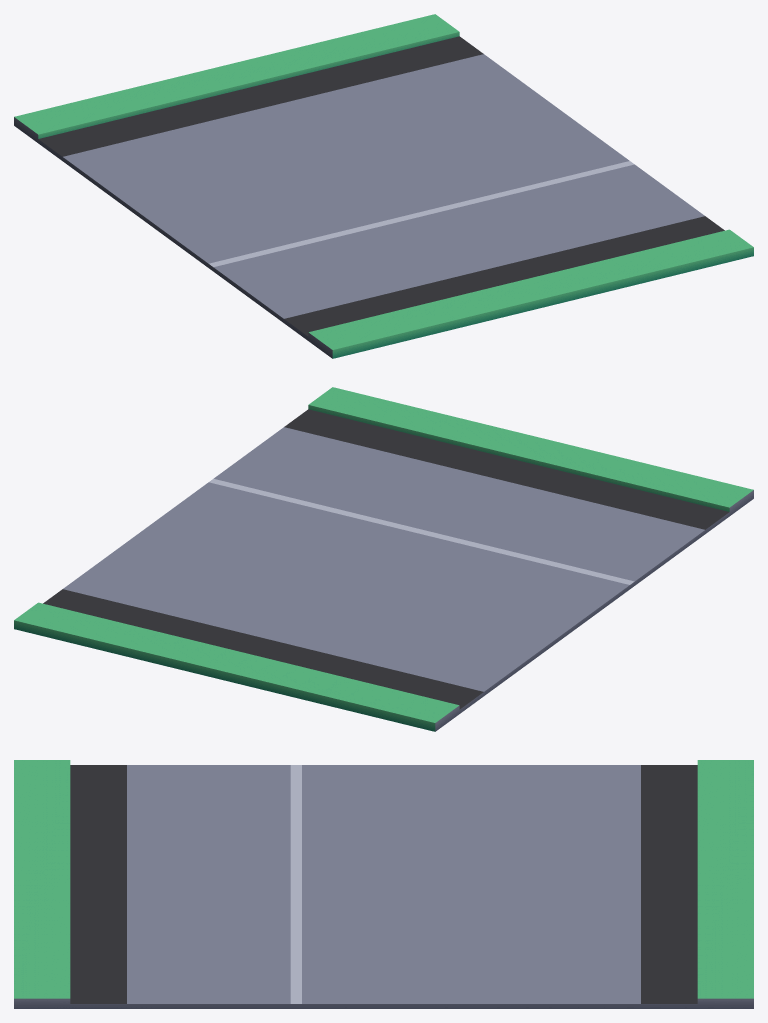
File: road_side.glb
The picture shows the model from 3 angles, top to bottom: view 1: azimuth 30°, elevation 25°; view 2: azimuth 150°, elevation 25°; view 3: azimuth 270°, elevation 25°; orthographic projection. The views are drawn at different scales.
Parts seen in each view (by area): view 1: road-side; view 2: road-side; view 3: road-side.
Boxes of the visible parts, x1,y1,x2,y2 form: road-side: (14,14,753,358); road-side: (14,387,753,731); road-side: (14,760,753,1008).
Size of the model in its own units: 1 by 0.02 by 1.31.
Materials: 1 (1 with a texture image).
